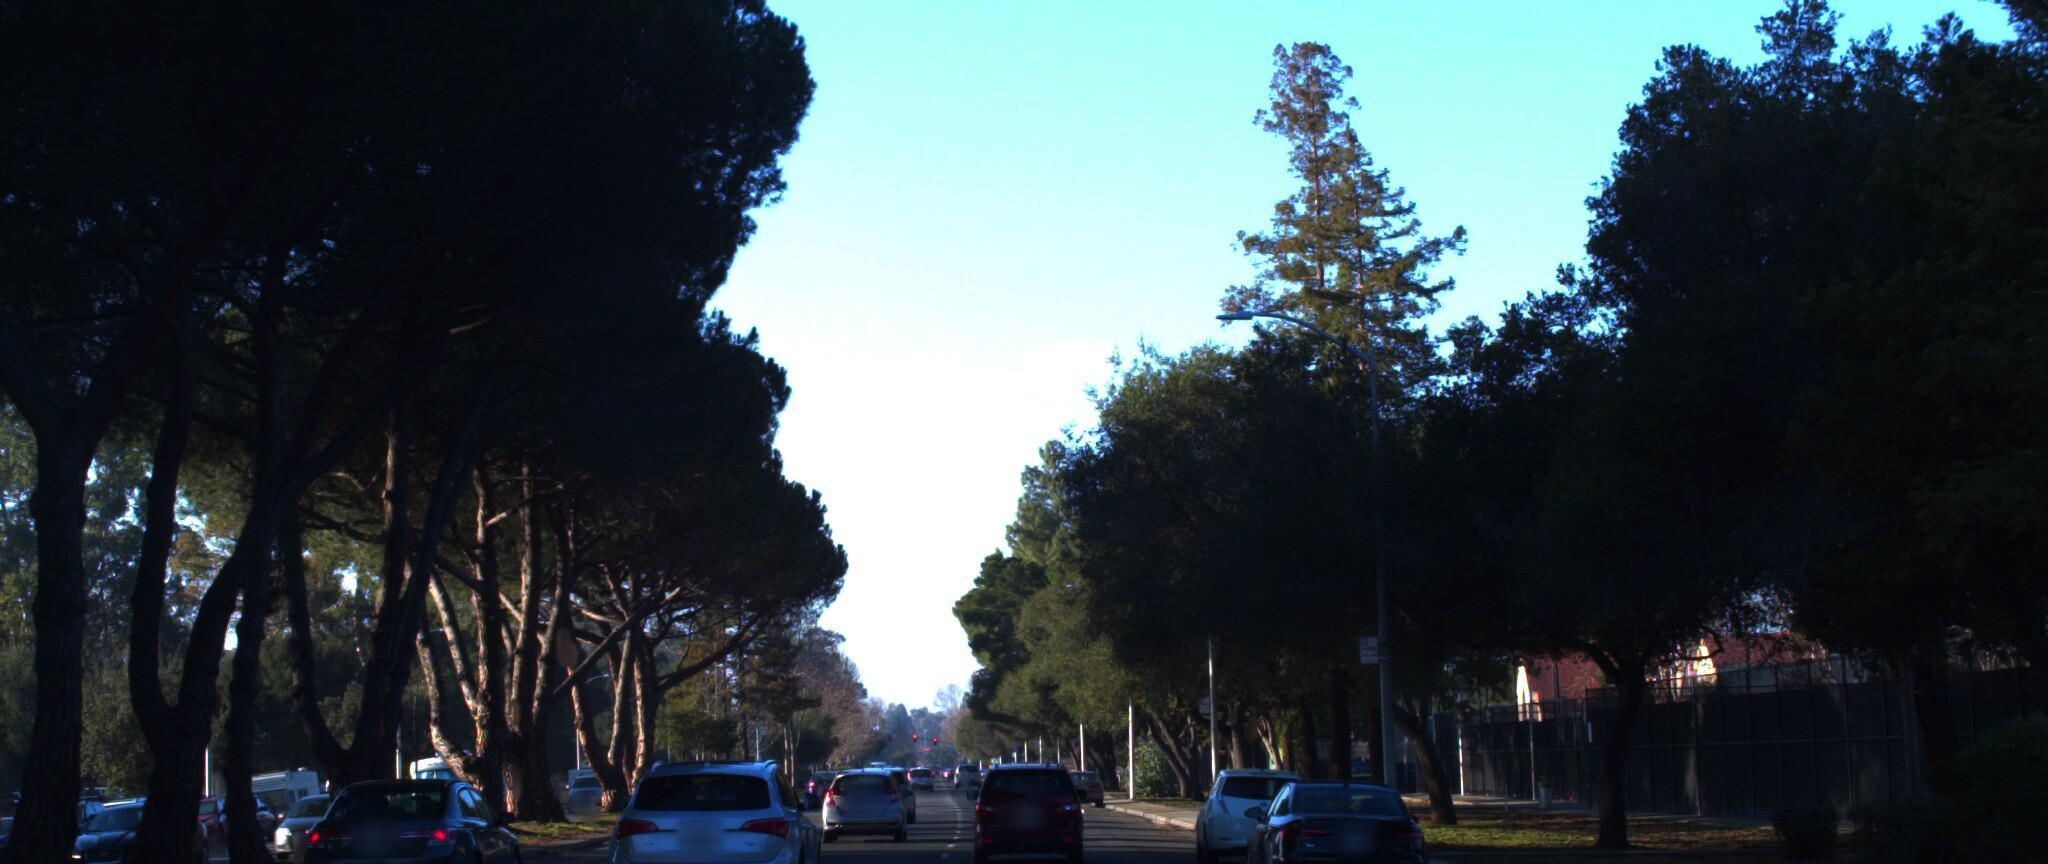car: (593, 750, 825, 864), (285, 756, 525, 864), (1228, 754, 1452, 864), (1178, 750, 1328, 856), (970, 753, 1091, 855), (812, 756, 901, 834)
other_vehicle: (0, 741, 22, 864)
